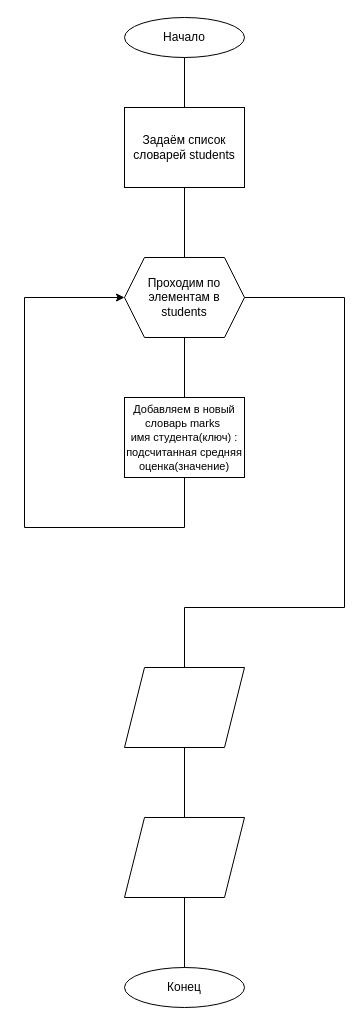
This 363x1025 diagram has some shape labels left out. Each missing label, with the centre of its shape:
"Выводим имя студента с наивысшей средне оценкой" goes at point 184,857.
"Выводим словарь marks" goes at point 184,707.
